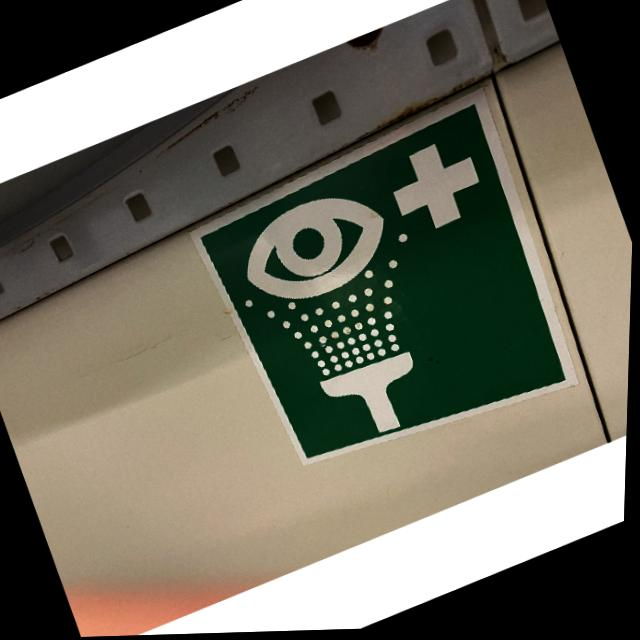eye shower: (175, 87, 597, 509)
